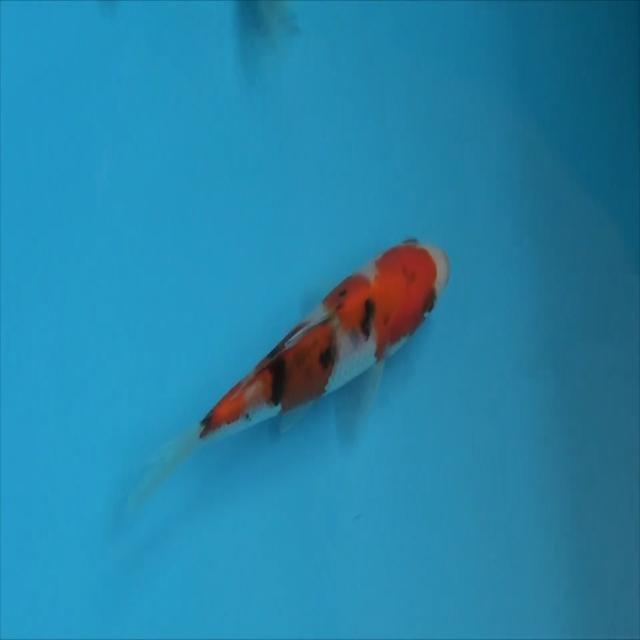Sanke: (126, 234, 450, 517)
